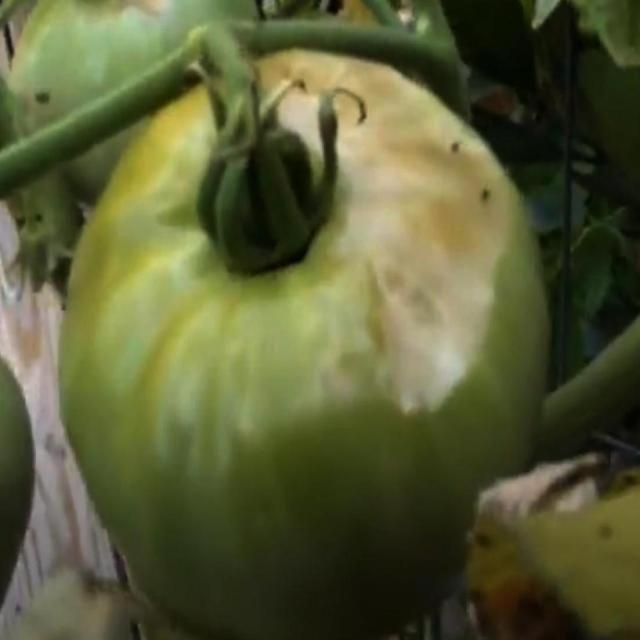Sunscald Fruit: (56, 50, 262, 255)
